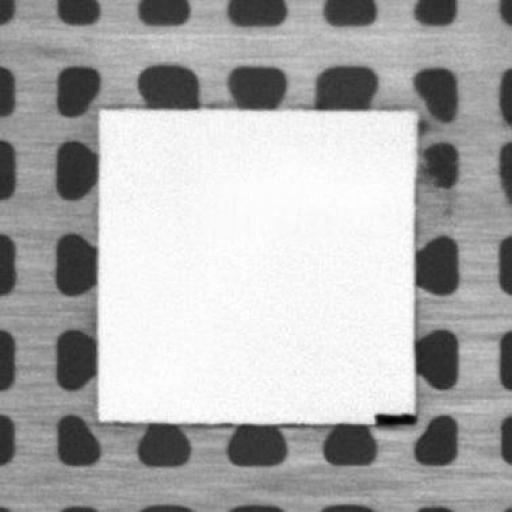DIE_BROKEN: (372, 408, 418, 424)
